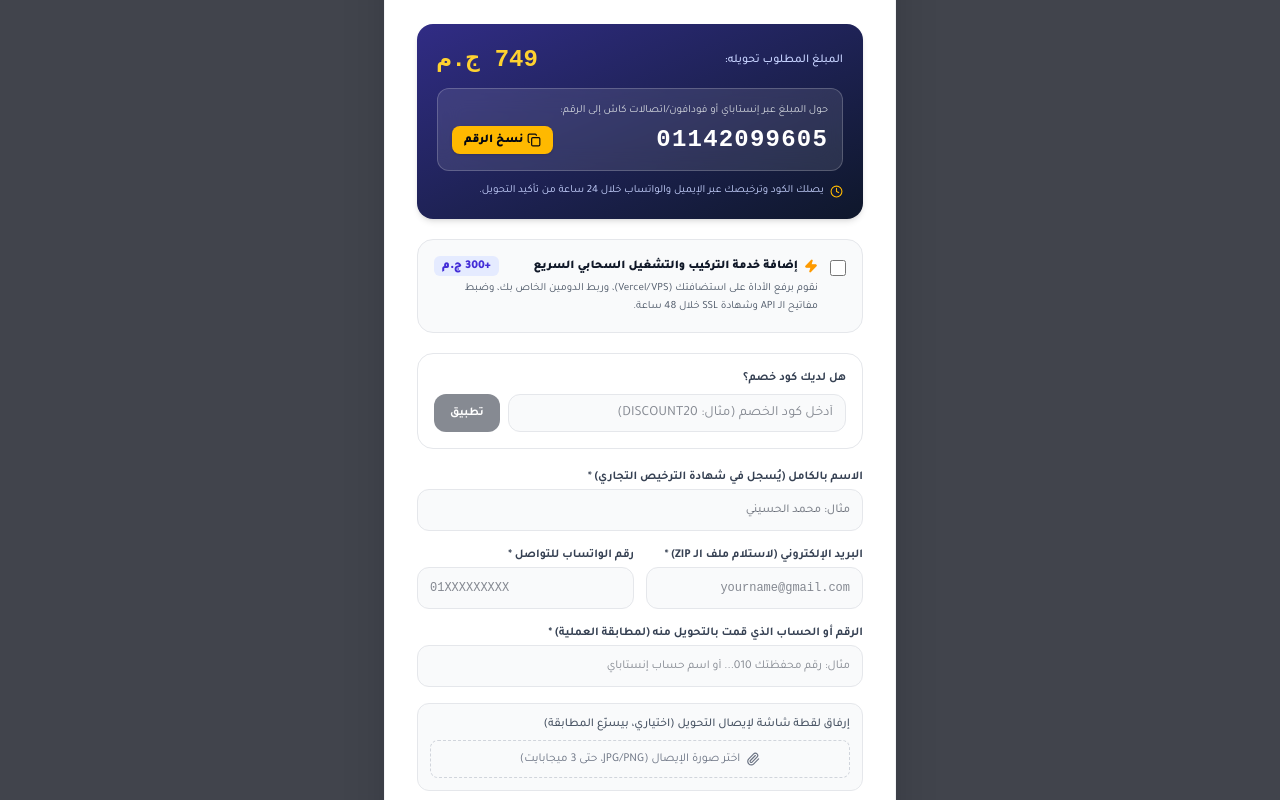
Scenario: CheckoutModal › submits the order to POST /api/orders and shows the server-issued order number on success
In the field with placeholder "مثال: محمد الحسيني": (640, 510) x1=417 y1=489 x2=863 y2=531, type "أحمد سامي"
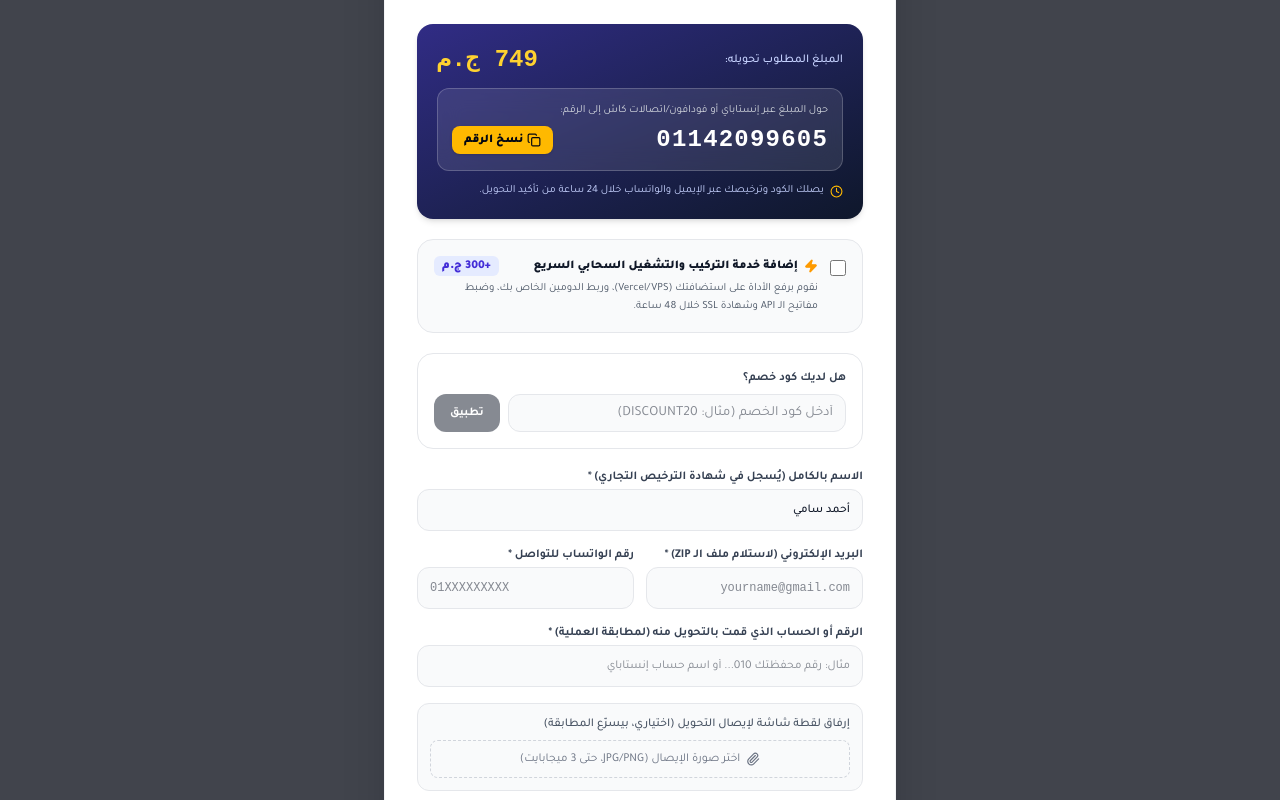
In the field with placeholder "yourname@gmail.com": (754, 588) x1=646 y1=567 x2=863 y2=609, type "ahmed@example.com"
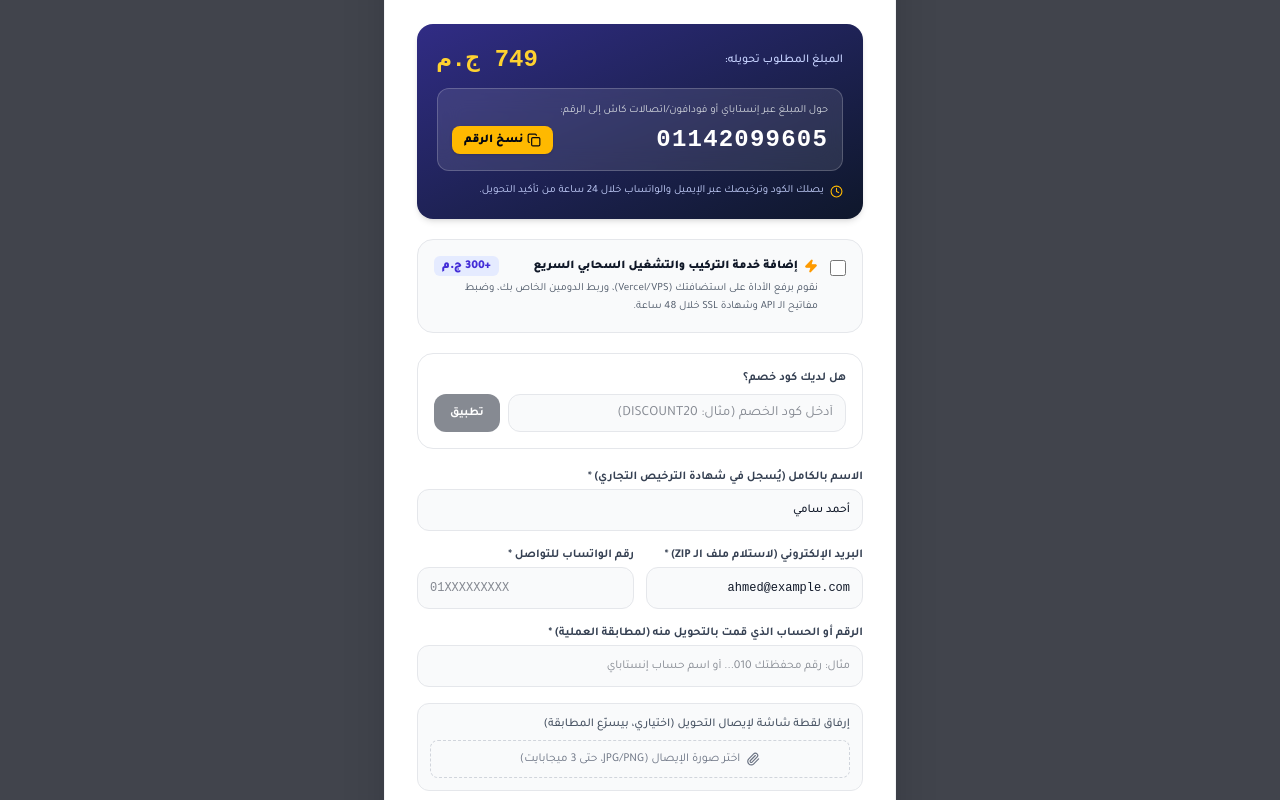
In the field with placeholder "01XXXXXXXXX": (526, 588) x1=417 y1=567 x2=634 y2=609, type "01012345678"
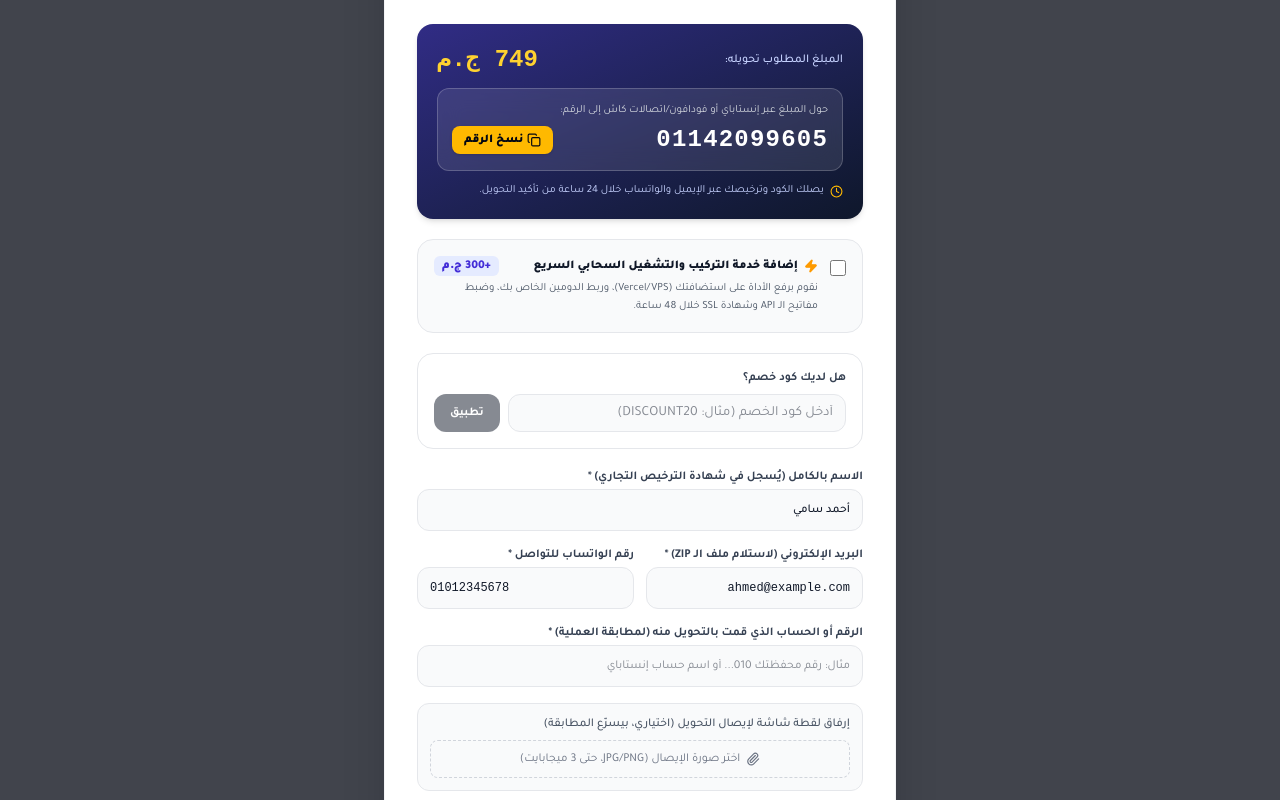
In the field with placeholder "مثال: رقم محفظتك 010... أو اسم حساب إنستاباي": (640, 666) x1=417 y1=645 x2=863 y2=687, type "01012345678"
(page scrolled)
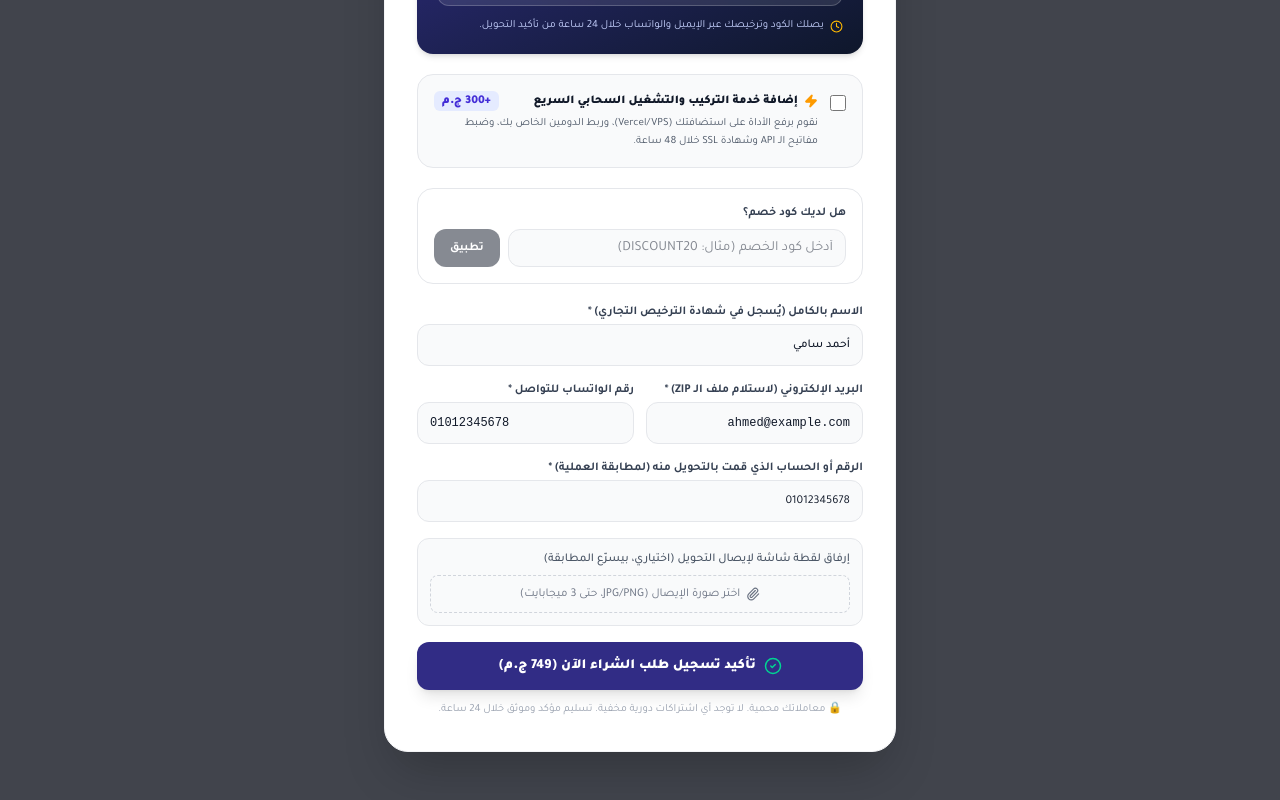
Click the button "تأكيد تسجيل طلب الشراء الآن (749 ج.م)": click(640, 666) x1=417 y1=642 x2=863 y2=690
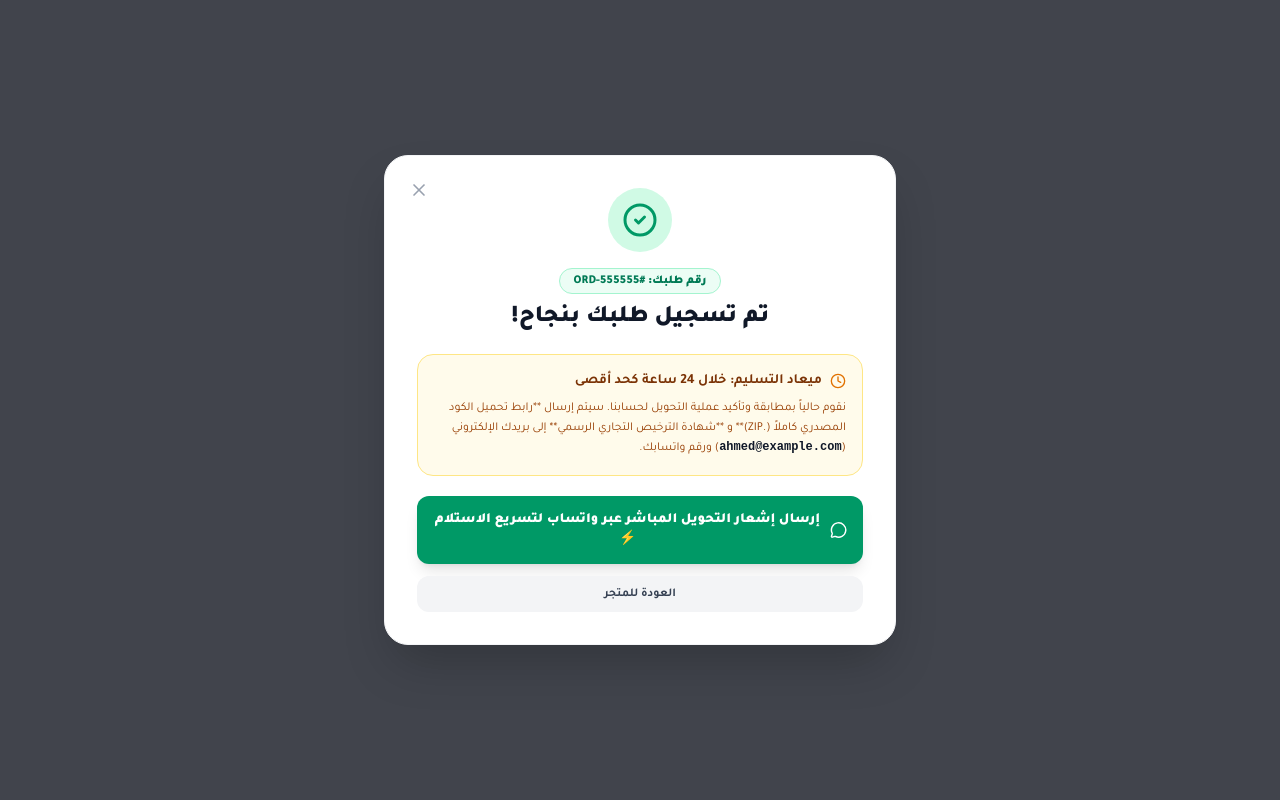
Check: the text "رقم طلبك: #ORD-555555" is shown, box x1=558 y1=268 x2=722 y2=294
